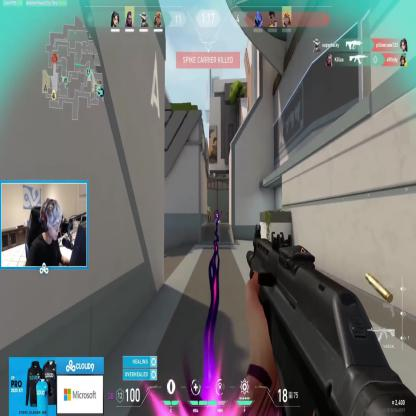enemy: (207, 207, 211, 222)
enemy_head: (208, 207, 210, 210)
